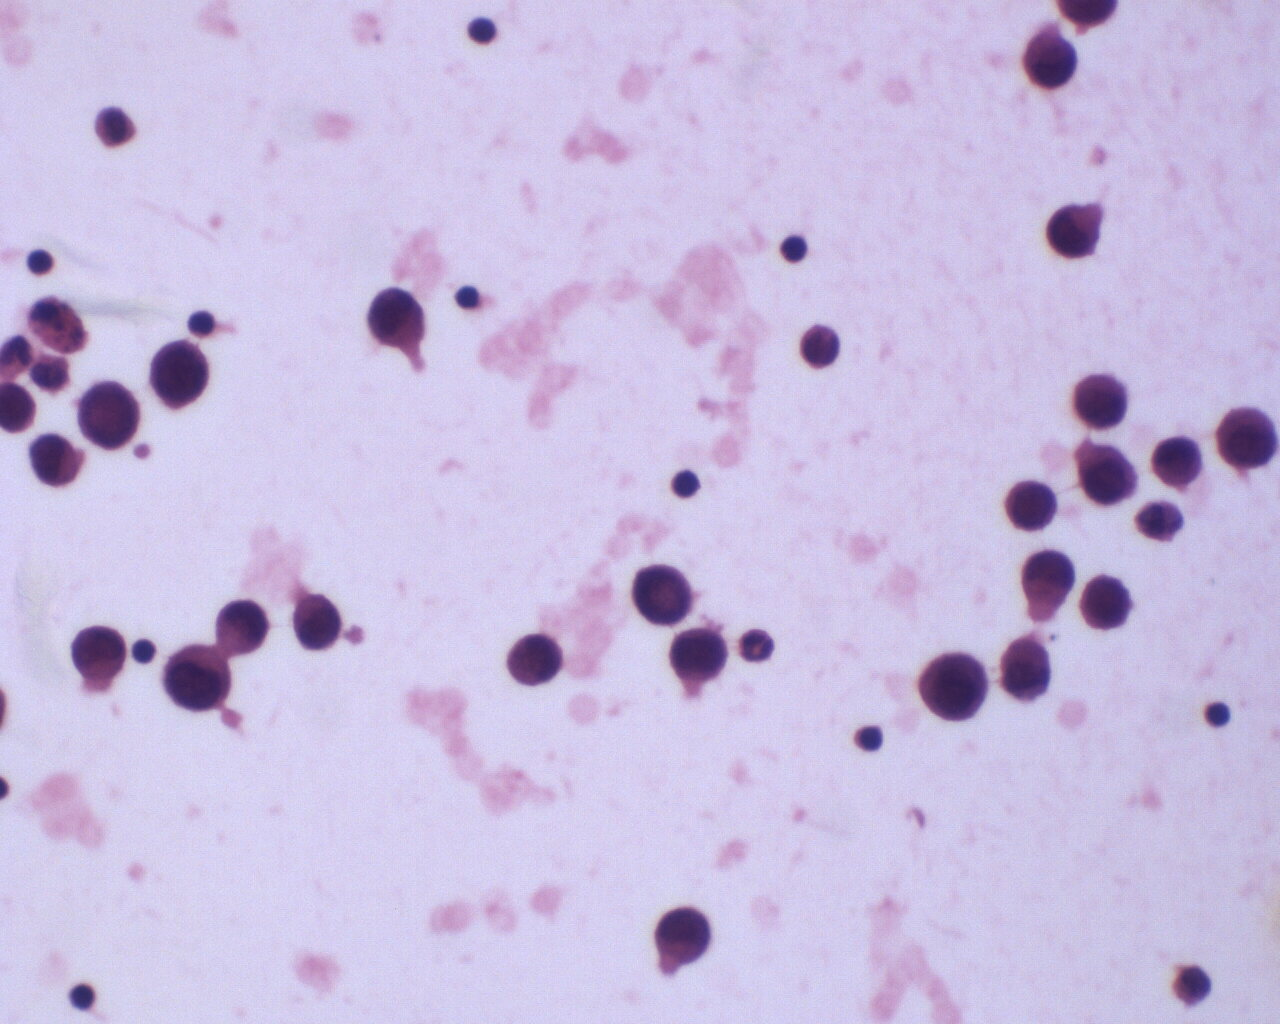ab: (914, 645, 988, 726), (164, 642, 235, 714), (1213, 401, 1280, 475), (75, 378, 141, 452), (148, 334, 209, 412), (1076, 436, 1142, 507), (653, 902, 718, 974), (368, 281, 428, 355), (998, 632, 1056, 705), (665, 626, 730, 690), (631, 561, 693, 629), (1020, 26, 1083, 92), (1042, 199, 1103, 265), (503, 630, 567, 693), (67, 620, 129, 683), (1078, 572, 1138, 636), (26, 428, 87, 490), (1070, 370, 1130, 430), (1002, 475, 1060, 533), (1151, 433, 1206, 492), (290, 594, 344, 654)
lymph: (61, 972, 99, 1022), (667, 467, 708, 505), (449, 279, 487, 318), (778, 232, 816, 270), (462, 14, 499, 47), (853, 722, 887, 757), (25, 242, 59, 277), (1201, 699, 1233, 731), (126, 632, 156, 668)
neutro: (738, 624, 778, 666)
